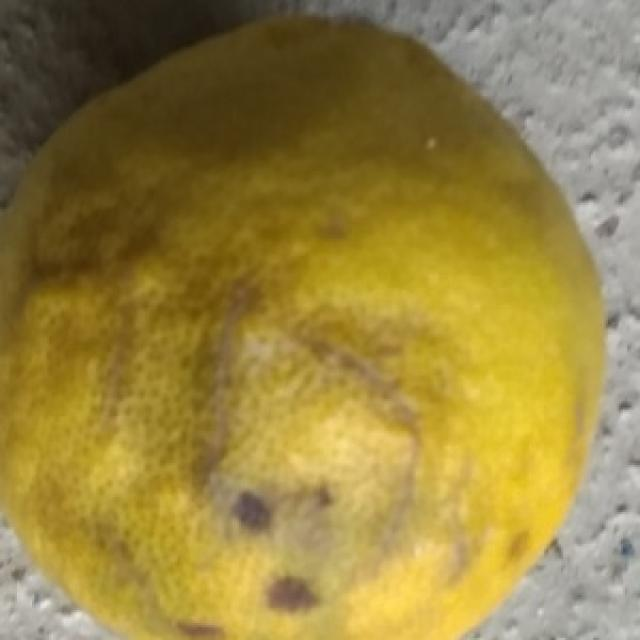overripe: (0, 9, 610, 640)
